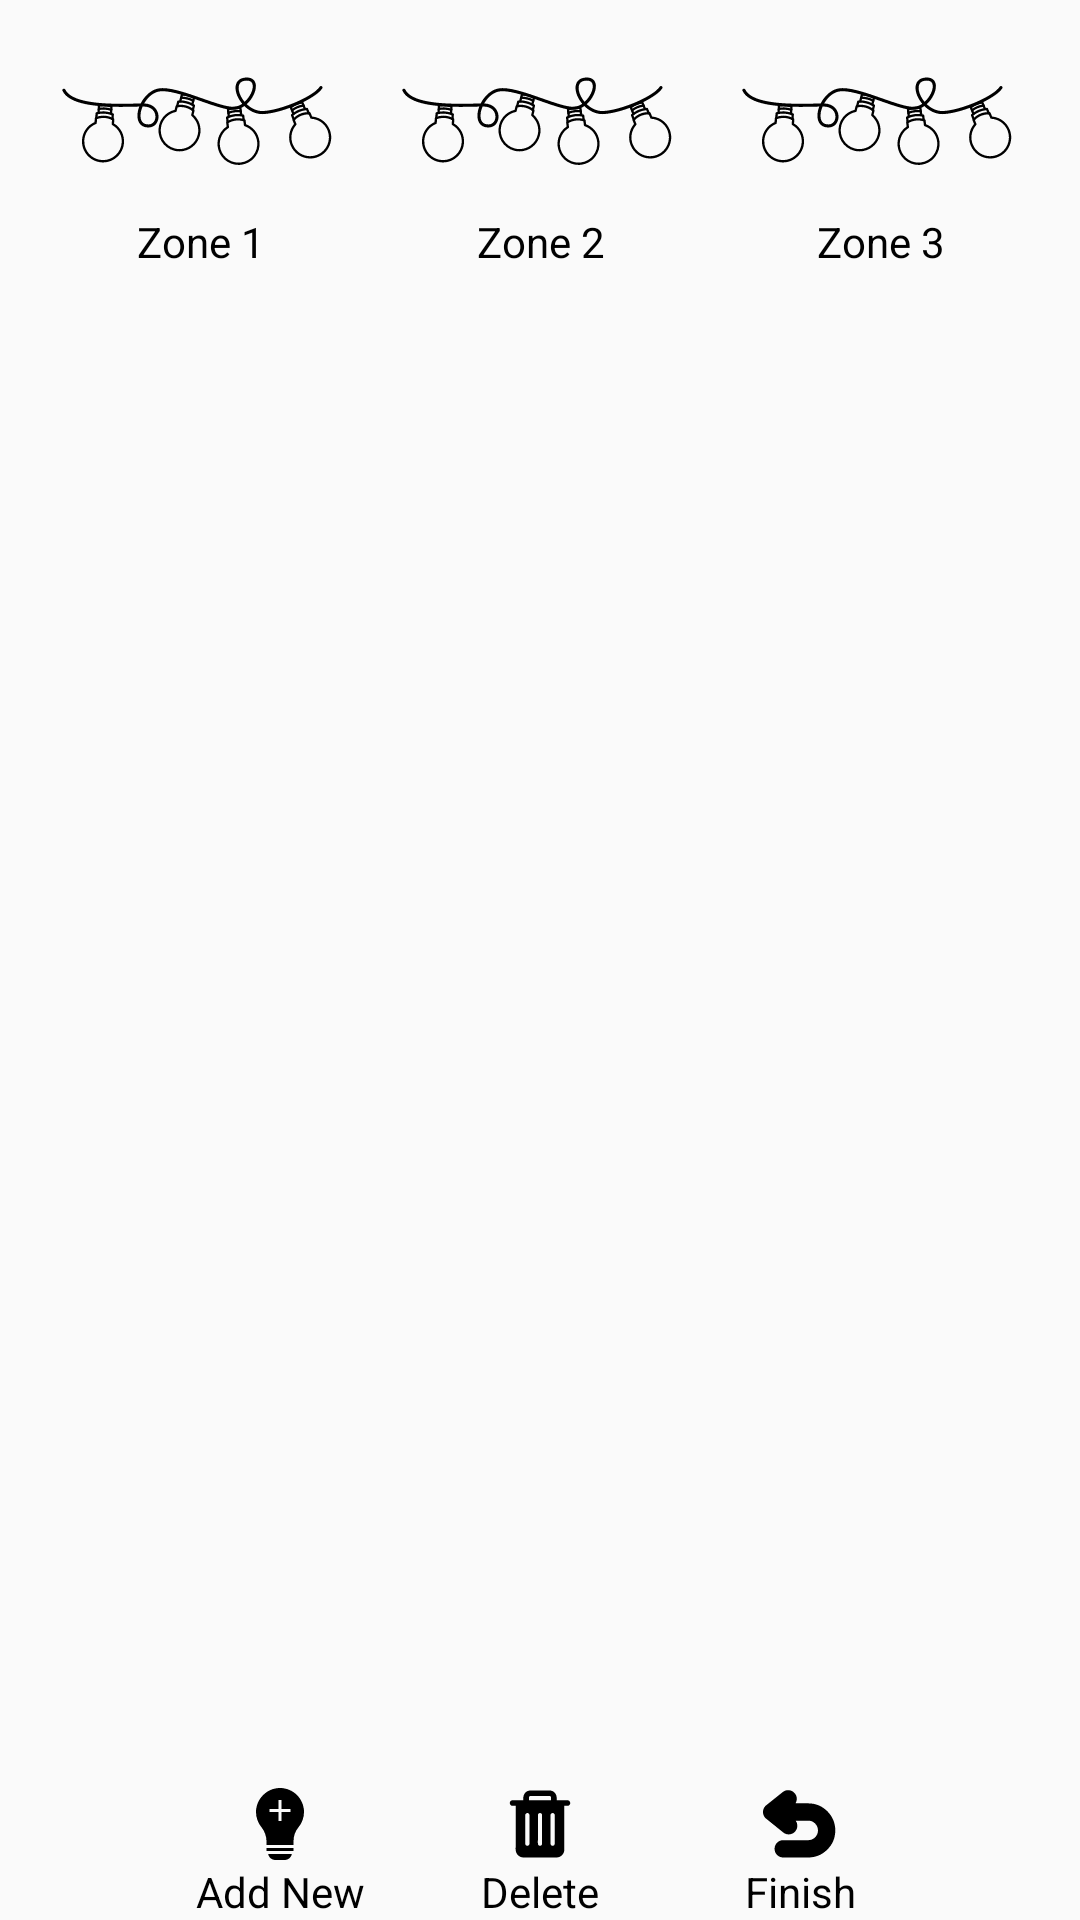

Icons on this 1080*1920 Android screen, each with its box as {"left": x1, "top": y1, "right": x2, "bottom": y2}:
return: {"left": 763, "top": 1790, "right": 836, "bottom": 1858}
